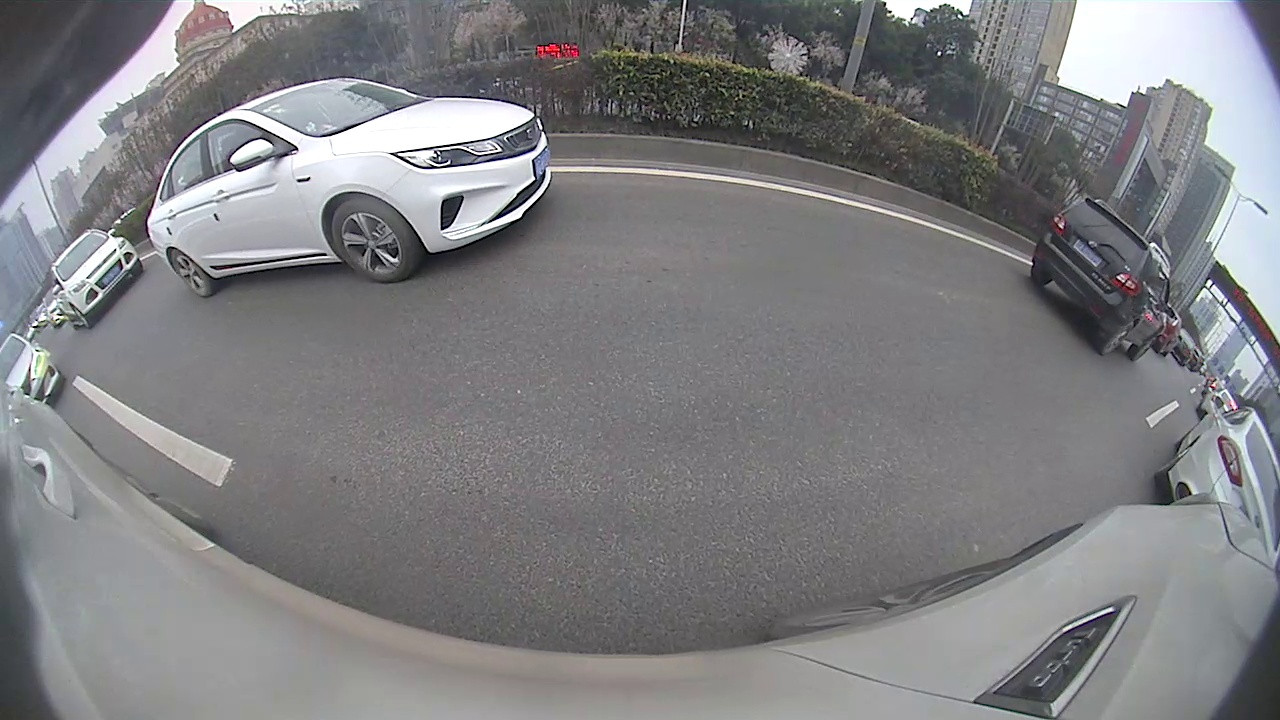car: (145, 77, 553, 299), (1029, 195, 1176, 364), (1154, 395, 1278, 567), (46, 225, 145, 330), (1, 332, 65, 408)
front: (330, 196, 419, 283), (72, 305, 91, 327)
rear: (169, 247, 215, 297), (1098, 321, 1134, 357)
